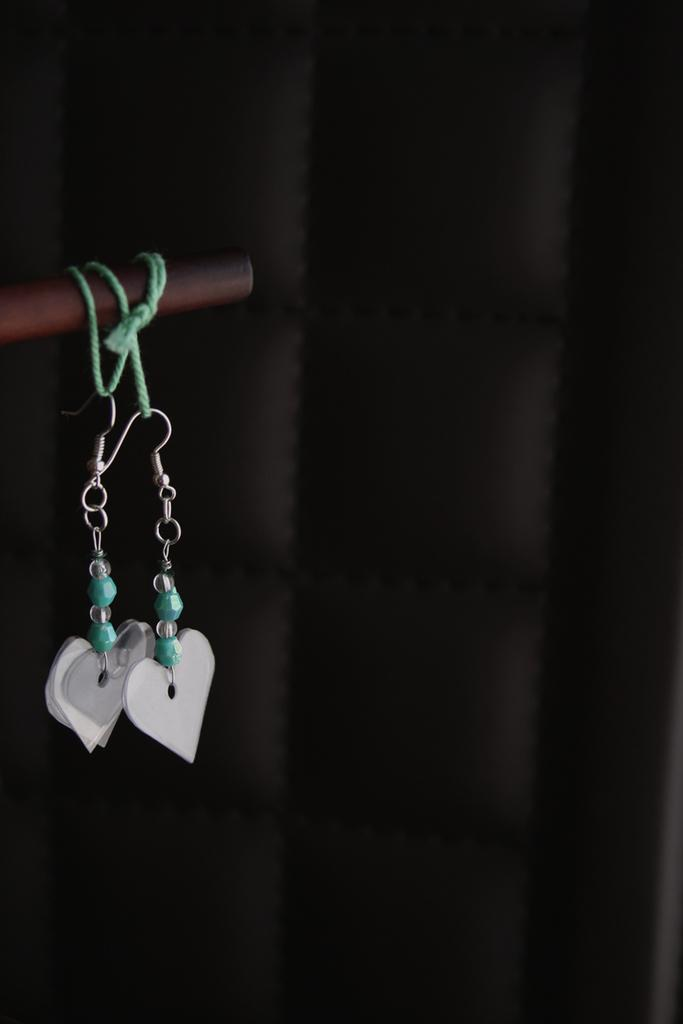earring: (34, 388, 152, 761), (96, 401, 215, 763)
